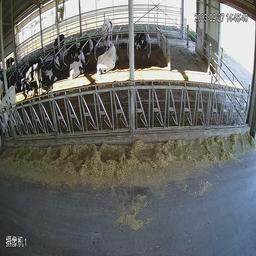cow: (15, 57, 43, 101), (93, 37, 120, 78), (67, 41, 90, 82), (134, 28, 152, 65), (98, 10, 117, 43), (45, 55, 62, 89)
